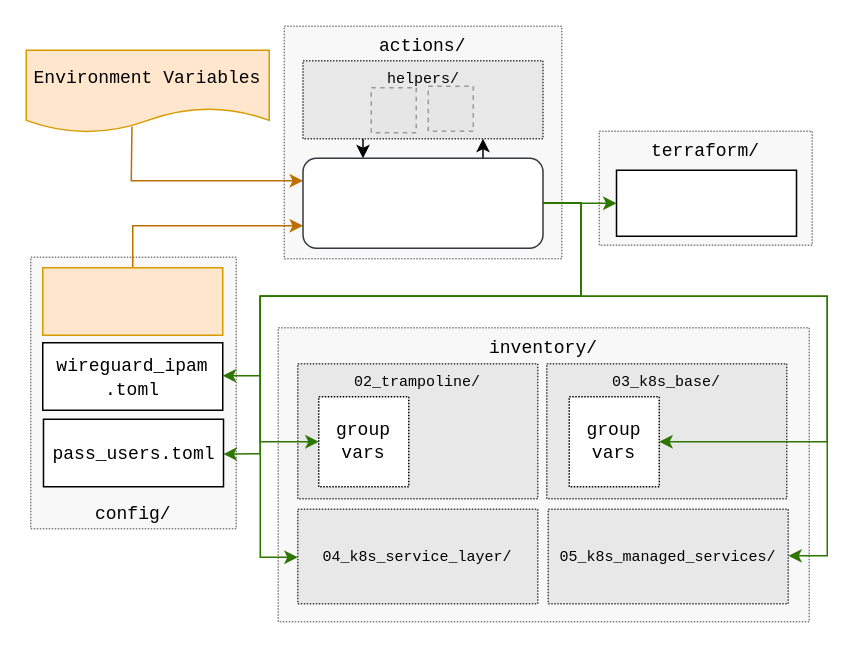
Some shapes in this 866 by 648 pixel diagram are drawn without their labels. Grey dashed boxes stand in for pictures. The shapes that lost their labels are listed below. From the top down, each one's centre as x and y in pixels, then its label:
At (x=422, y=202): "update_inventory.py".
At (x=705, y=202): "config.tfvars.json".
At (x=132, y=300): "default.nix".
